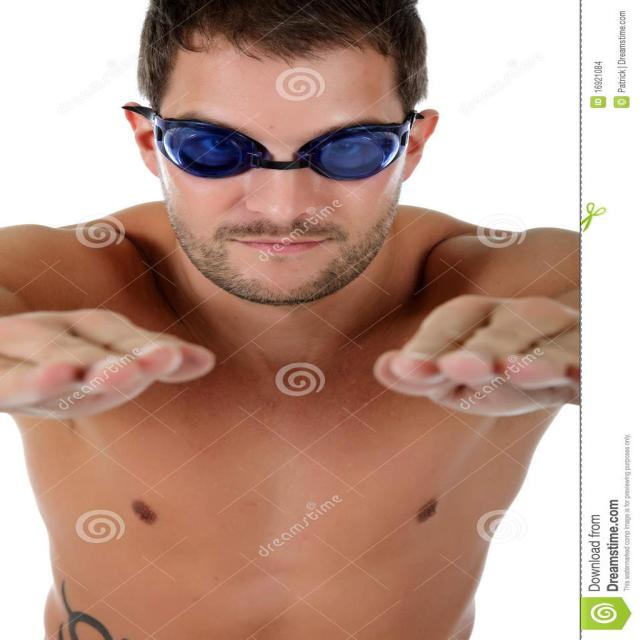Face: (139, 3, 435, 307)
